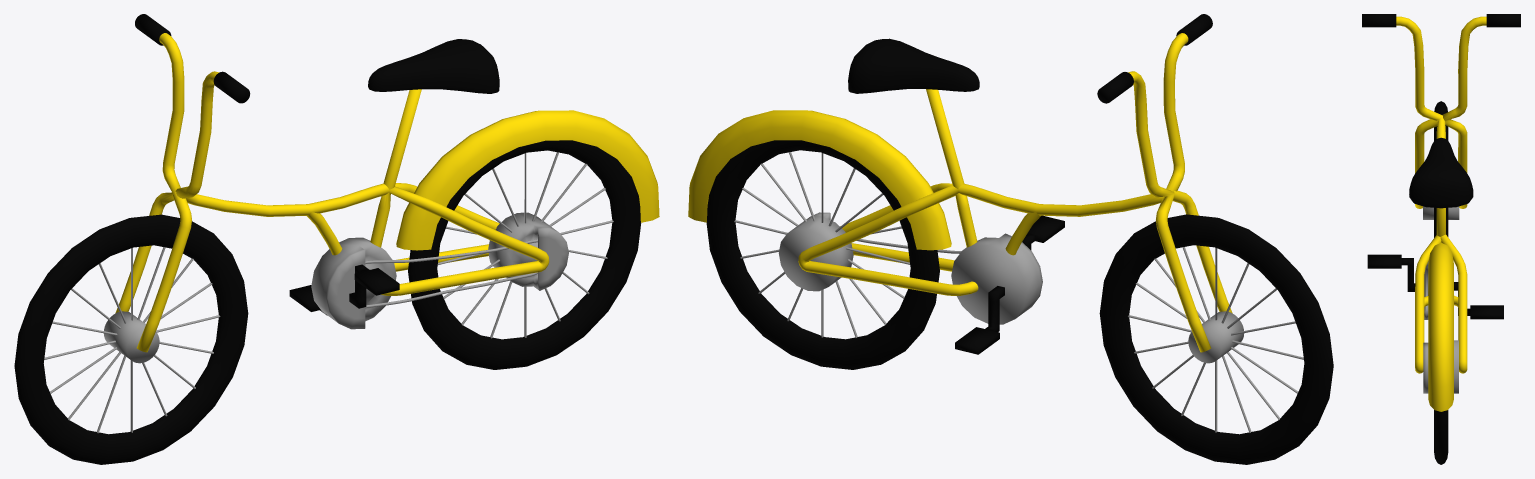
File: BikeYellow.fbx
3 views of the same model, side by side, from view 1: azimuth 30°, elevation 25°; view 2: azimuth 150°, elevation 25°; view 3: azimuth 270°, elevation 25° (orthographic). The views are drawn at different scales.
Parts seen in each view (by area): view 1: Tire_Cover; view 2: Tire_Cover; view 3: Tire_Cover.
Part boxes in pixels (left/top/right/bottom): Tire_Cover: left=14, top=14, right=659, bottom=464; Tire_Cover: left=688, top=14, right=1333, bottom=464; Tire_Cover: left=1362, top=14, right=1520, bottom=464.
Size of the model in its own units: 253 by 149 by 68.44.
